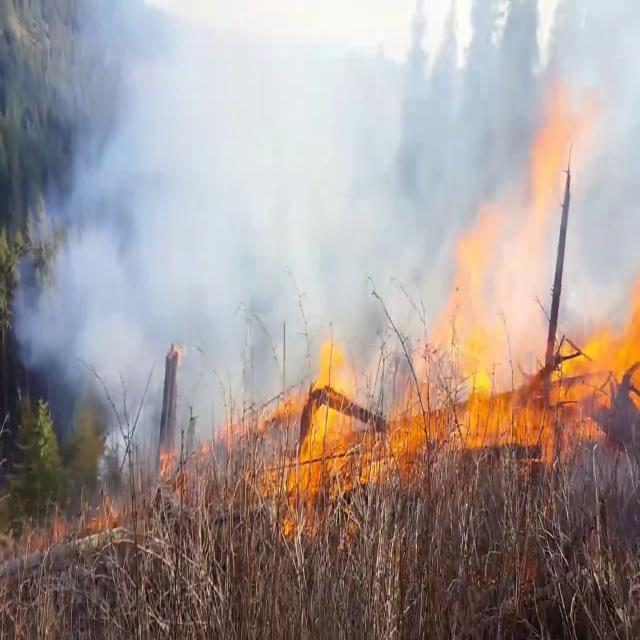Fire: (399, 216, 640, 454), (280, 323, 354, 543)
Smoke: (10, 0, 617, 468)
